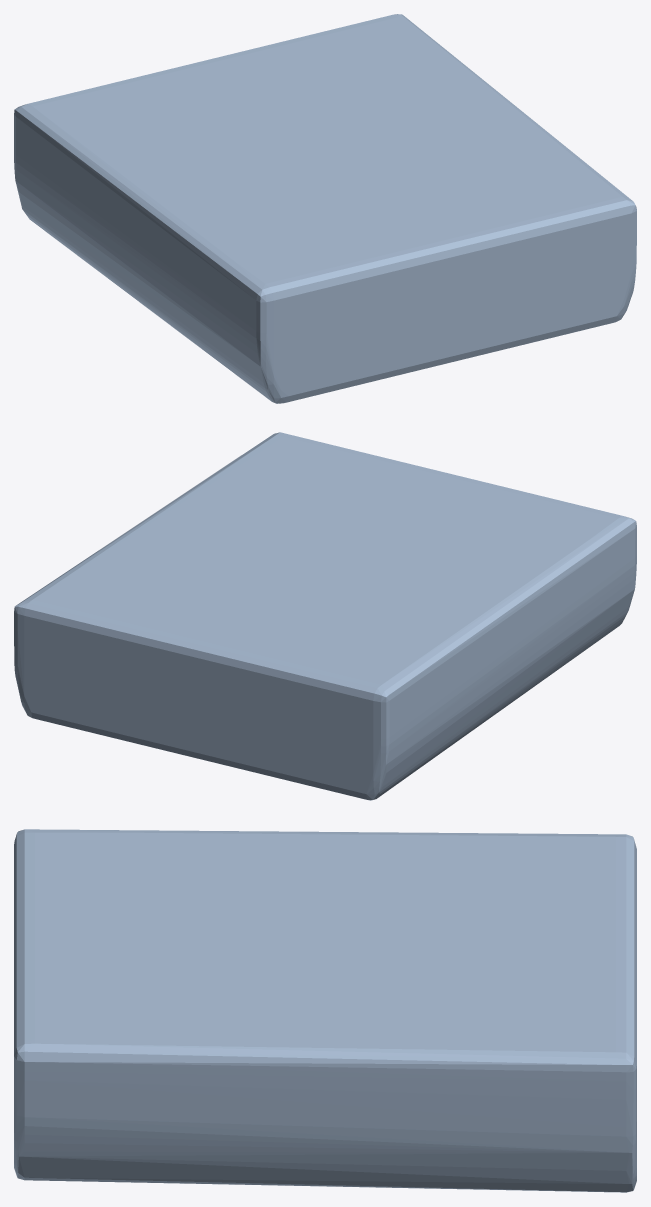
Rendered from right_shoulder_yaw_link_part_6.obj.
3 views of the same model, one above another, from view 1: azimuth 30°, elevation 25°; view 2: azimuth 150°, elevation 25°; view 3: azimuth 270°, elevation 25° (orthographic). The views are drawn at different scales.
Bounding box in the file's own units: 0.056 × 0.0161 × 0.0627.
